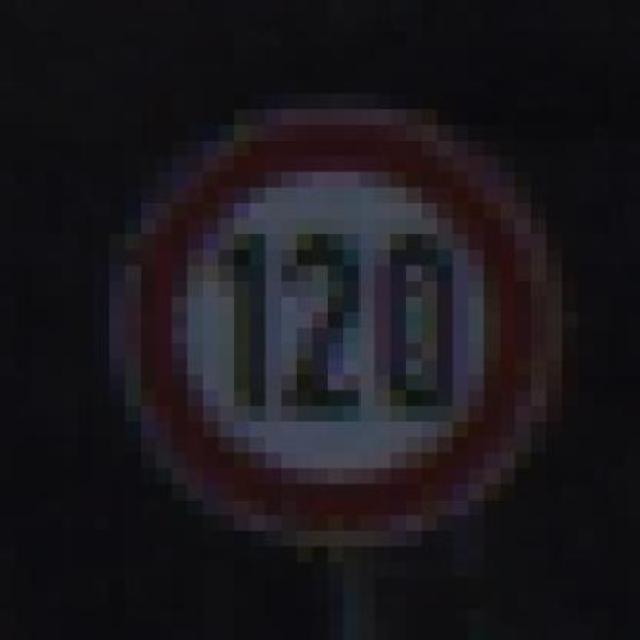forb_speed_over_120: (142, 119, 541, 539)
